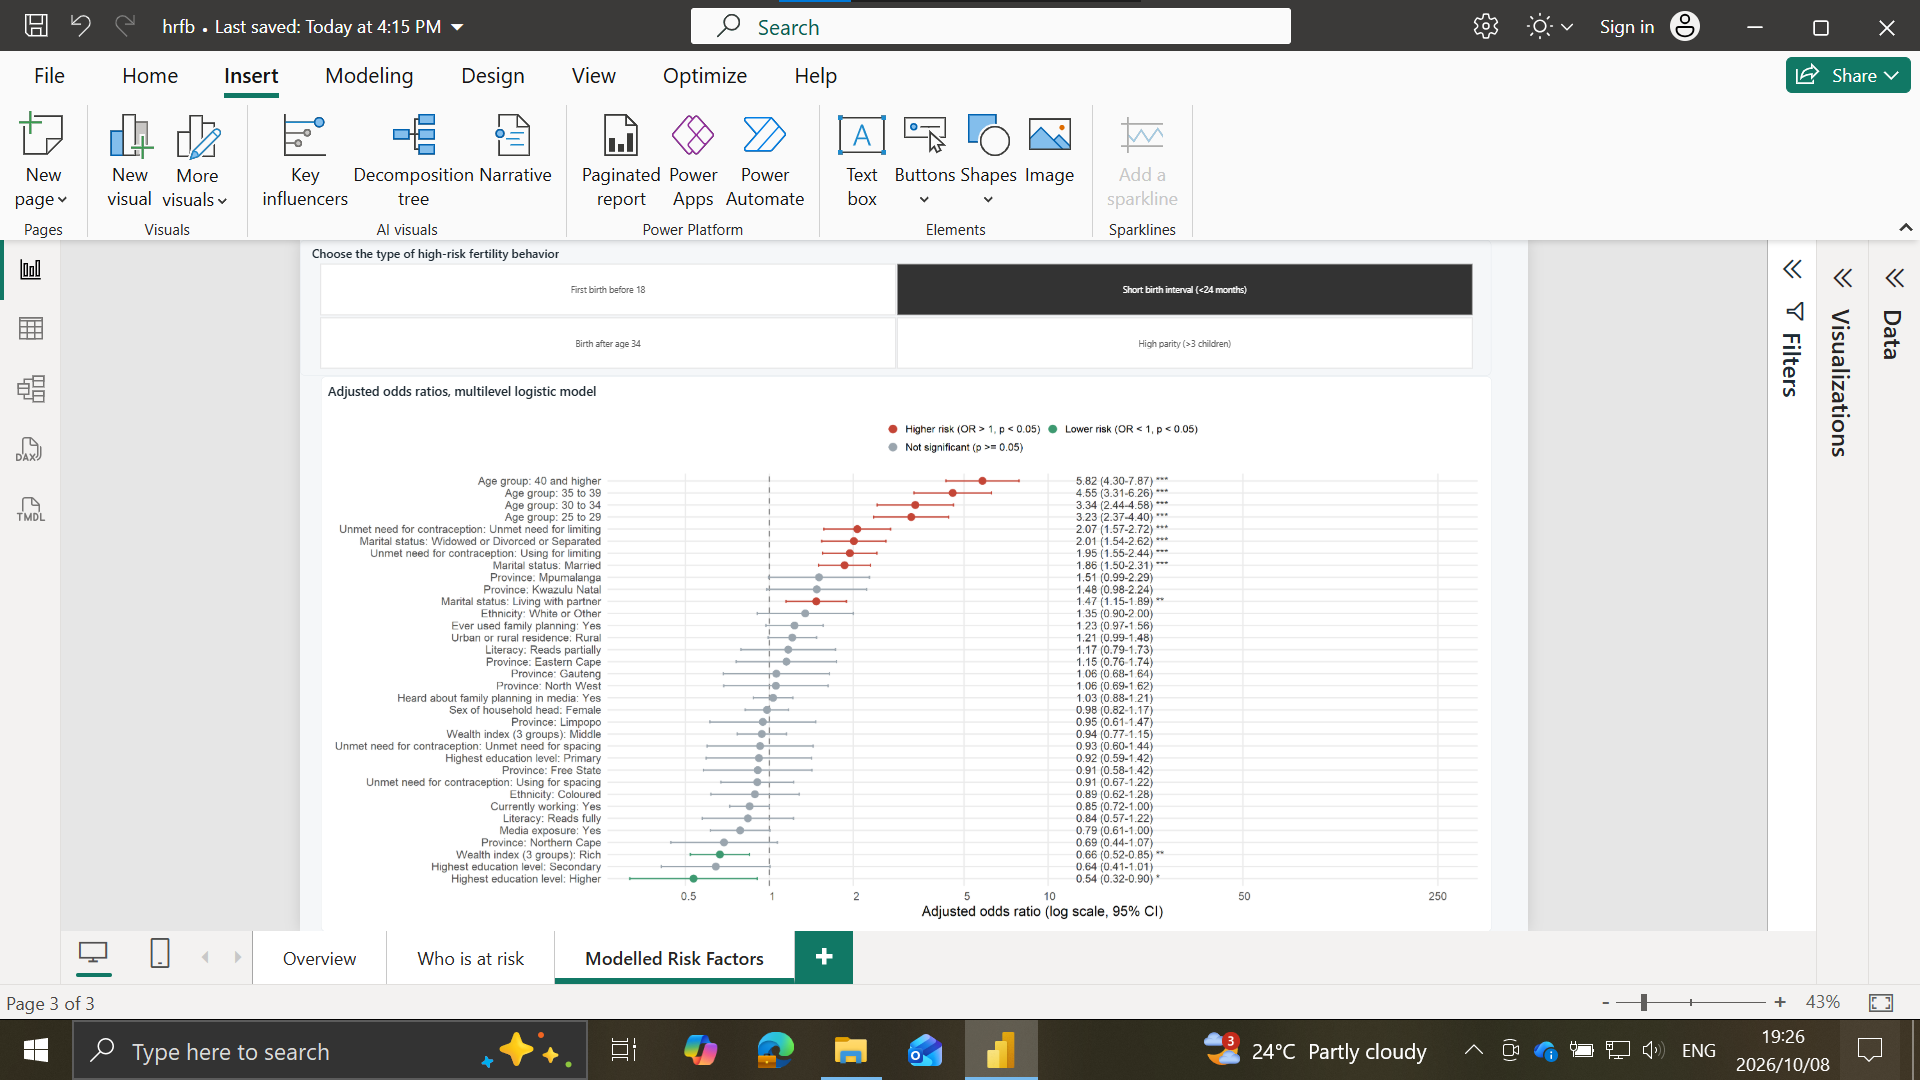

What the dashboard file says about the page in this screenshot:
{"tool":"powerbi","page":{"name":"Modelled Risk Factors","canvas":[1920,1080],"ordinal":2},"visuals":[{"type":"slicer","fields":{"Values":["dim_outcome.outcome_label"]},"box":[0,0,1862,212],"z":0},{"type":"scriptVisual","title":"Adjusted odds ratios, multilevel logistic model","fields":{"Values":["fact_odds_ratios.term_label","fact_odds_ratios.odds_ratio","fact_odds_ratios.ci_lower","fact_odds_ratios.ci_upper","fact_odds_ratios.p_value"]},"box":[32.9,212.6,1830.1,868.2],"z":1001}]}

Visuals, with their boxes on the page's 1920x1080 design canvas (x1, y1, x2, y2). These are canvas units, not pixel positions in the 1920x1080 screenshot, which may show the page scaled, cropped or inside an application window:
slicer - dim_outcome.outcome_label: <bbox>0, 0, 1862, 212</bbox>
"Adjusted odds ratios, multilevel logistic model" scriptVisual: <bbox>33, 213, 1863, 1081</bbox>
